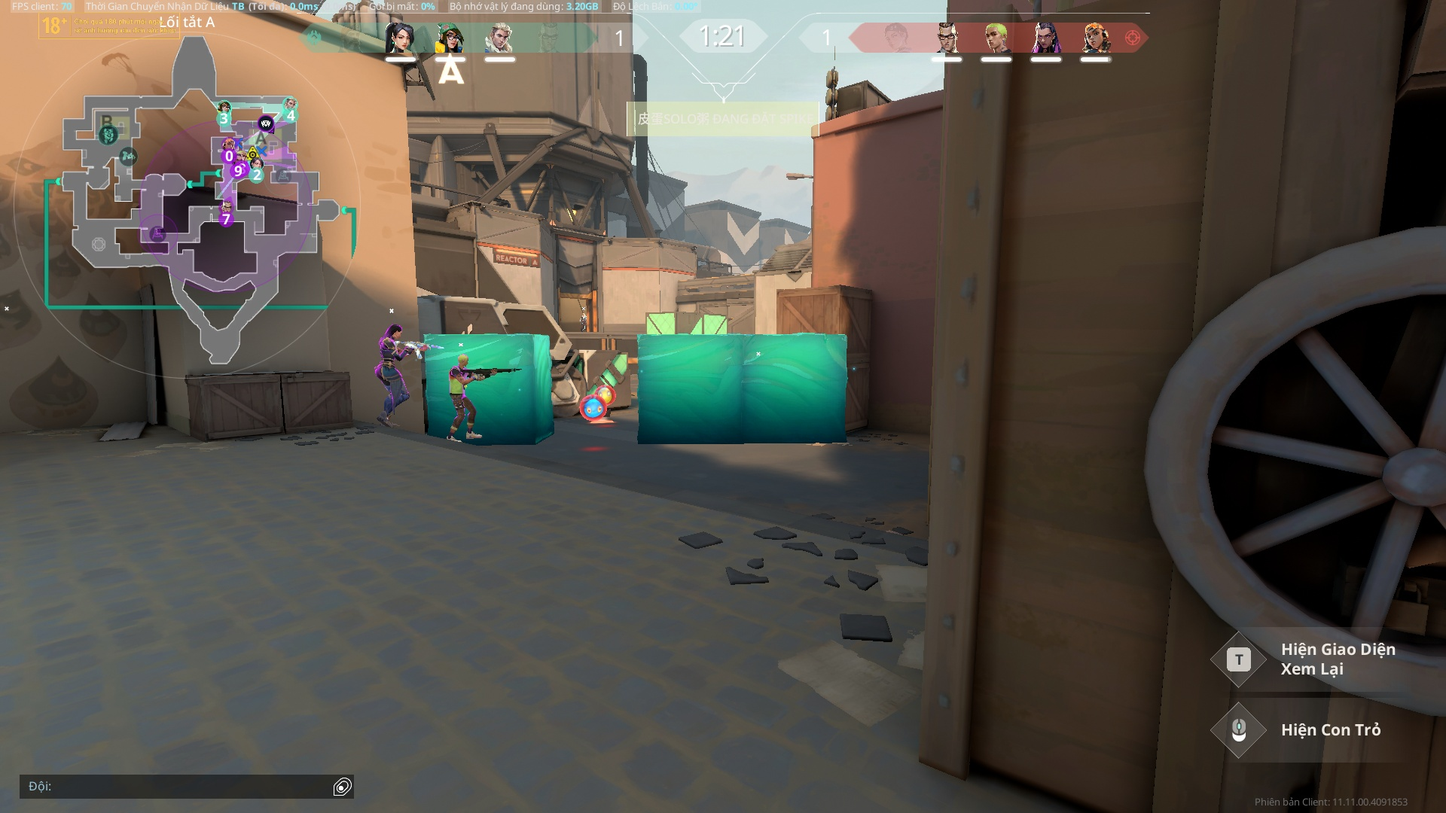body: (448, 364, 468, 394), (378, 336, 400, 363)
head: (386, 321, 404, 341), (456, 352, 470, 367)
